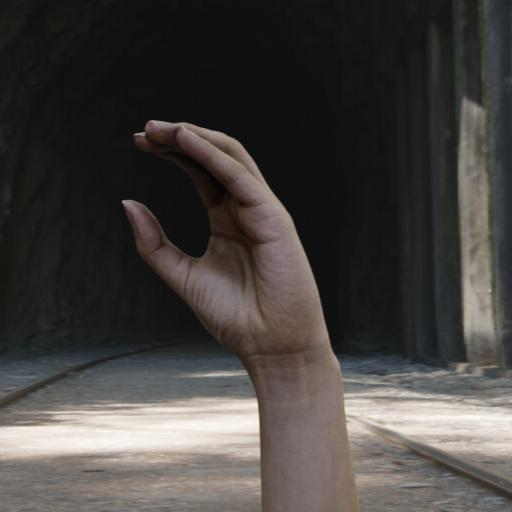C: (118, 115, 329, 359)
